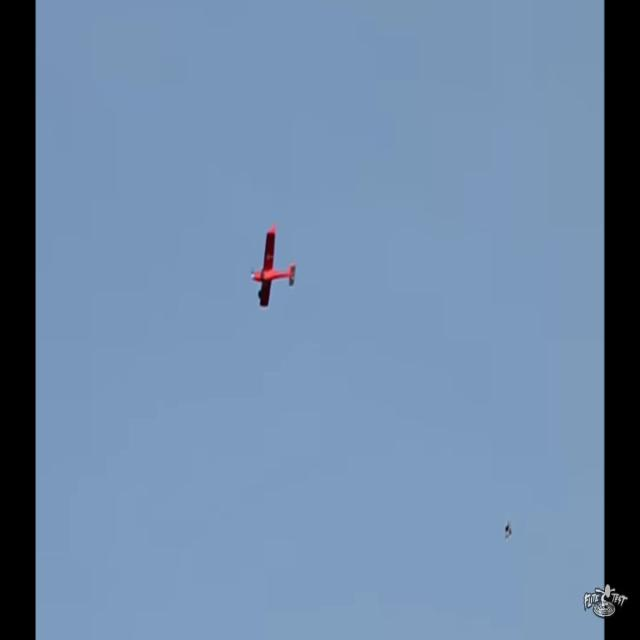iha: (251, 248, 296, 269)
